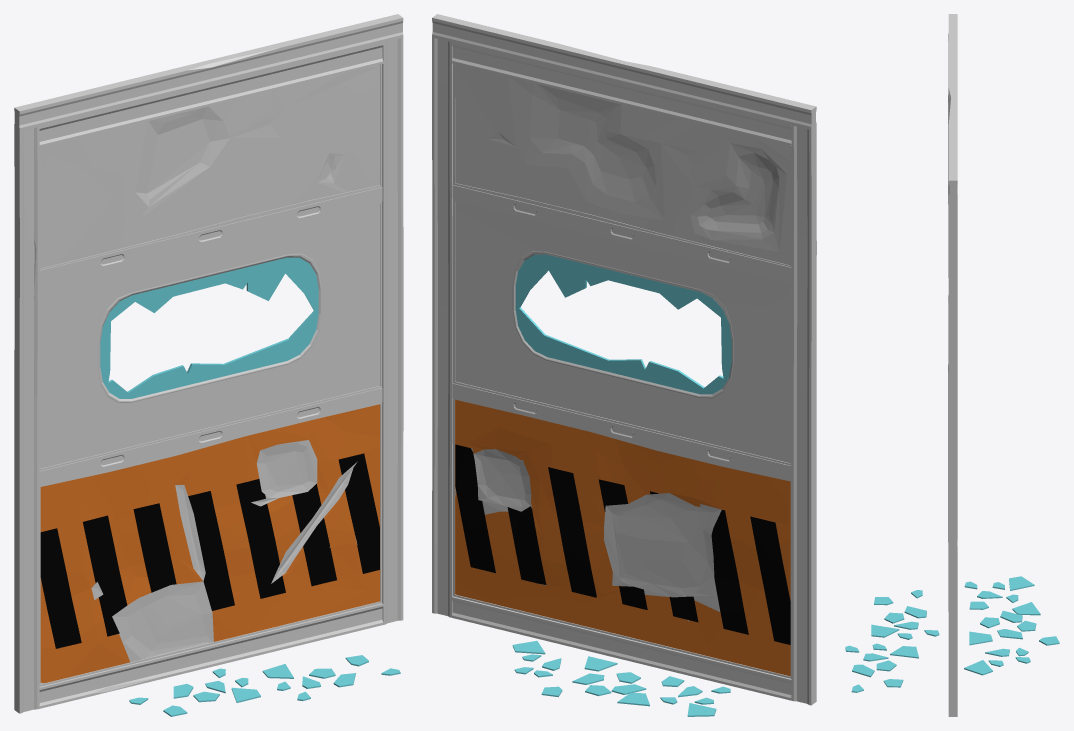
The model's file is SM_Wall_Broken_01.glb.
3 views of the same model, side by side, from view 1: azimuth 30°, elevation 25°; view 2: azimuth 150°, elevation 25°; view 3: azimuth 270°, elevation 25° (orthographic). The views are drawn at different scales.
Visible parts, largest first — view 1: SM_Wall_Broken_01; view 2: SM_Wall_Broken_01; view 3: SM_Wall_Broken_01.
Part boxes in pixels (x1,y1,x2,y2): SM_Wall_Broken_01: (14, 14, 403, 716); SM_Wall_Broken_01: (432, 14, 816, 716); SM_Wall_Broken_01: (845, 14, 1059, 716).
Bounding box in the file's own units: 2 × 3 × 1.09.
